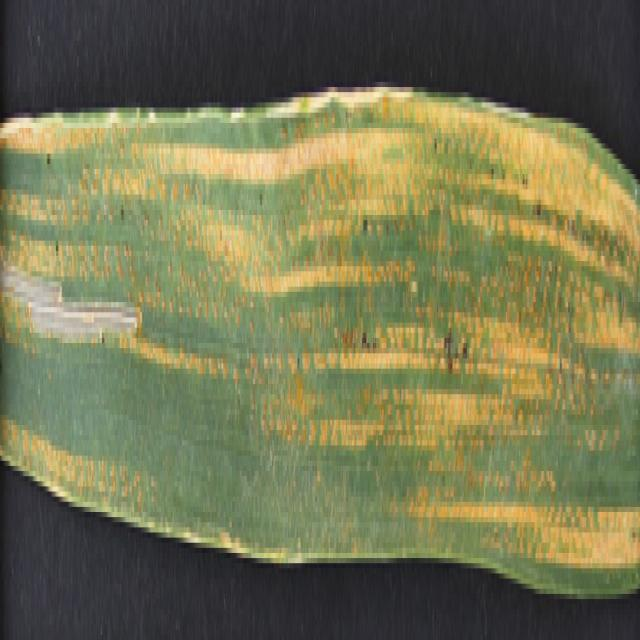leaf rust: (1, 41, 640, 594)
